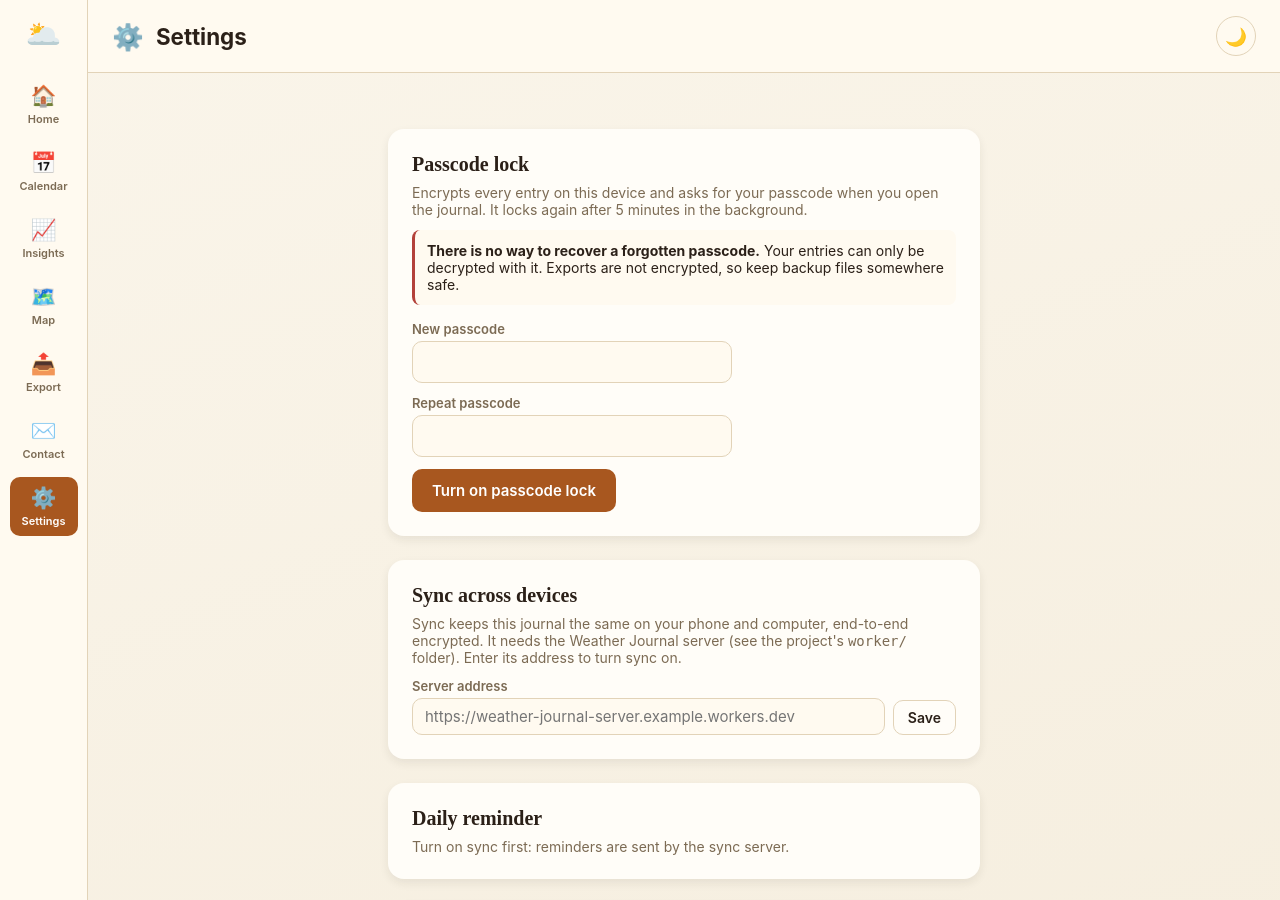
Test: Passcode lock › checks the new passcode before turning the lock on
Type "12" into the password field labelled "New passcode" at (572, 362), box top-left (412, 341), bottom-right (732, 383)
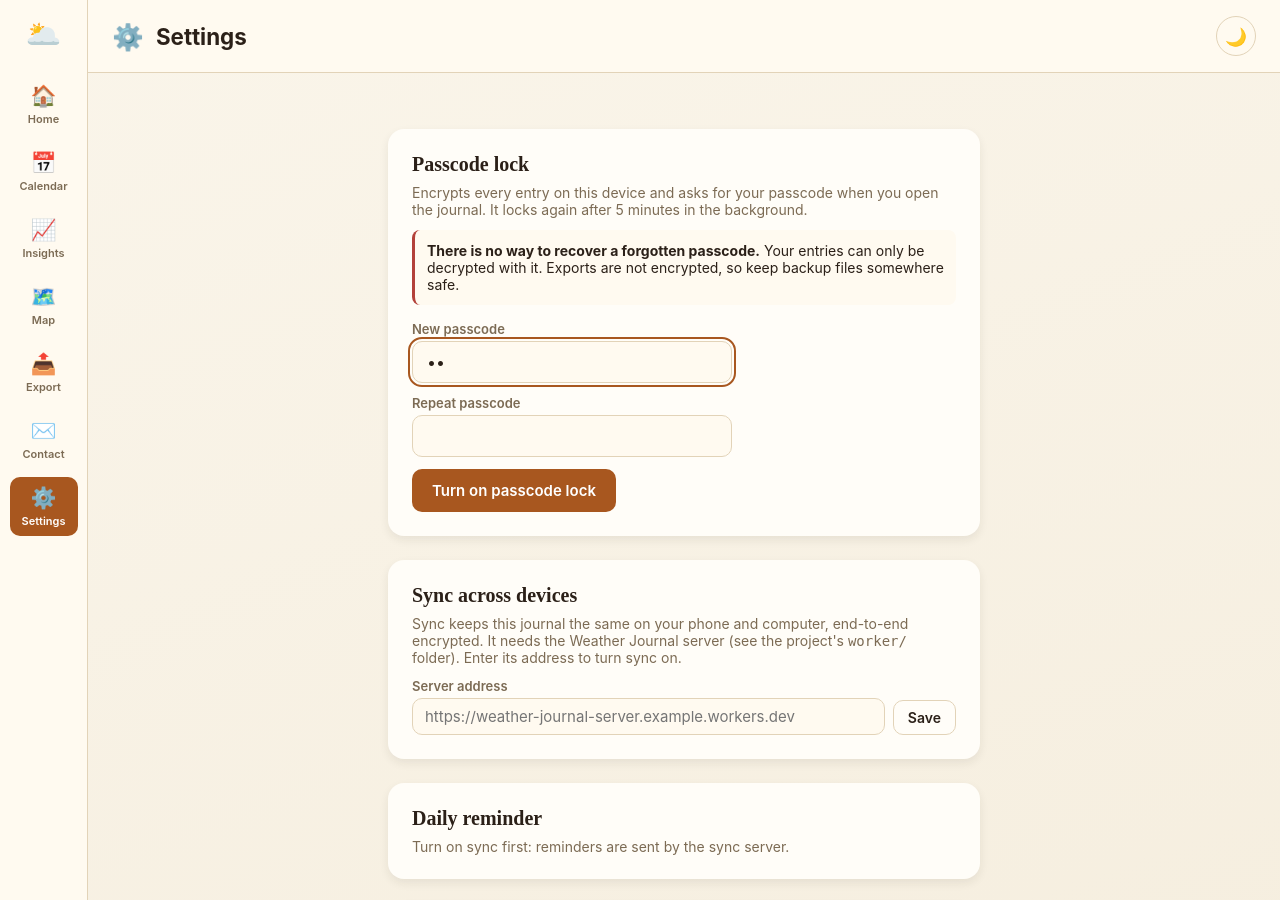
Type "12" into the password field labelled "Repeat passcode" at (572, 436), box top-left (412, 415), bottom-right (732, 457)
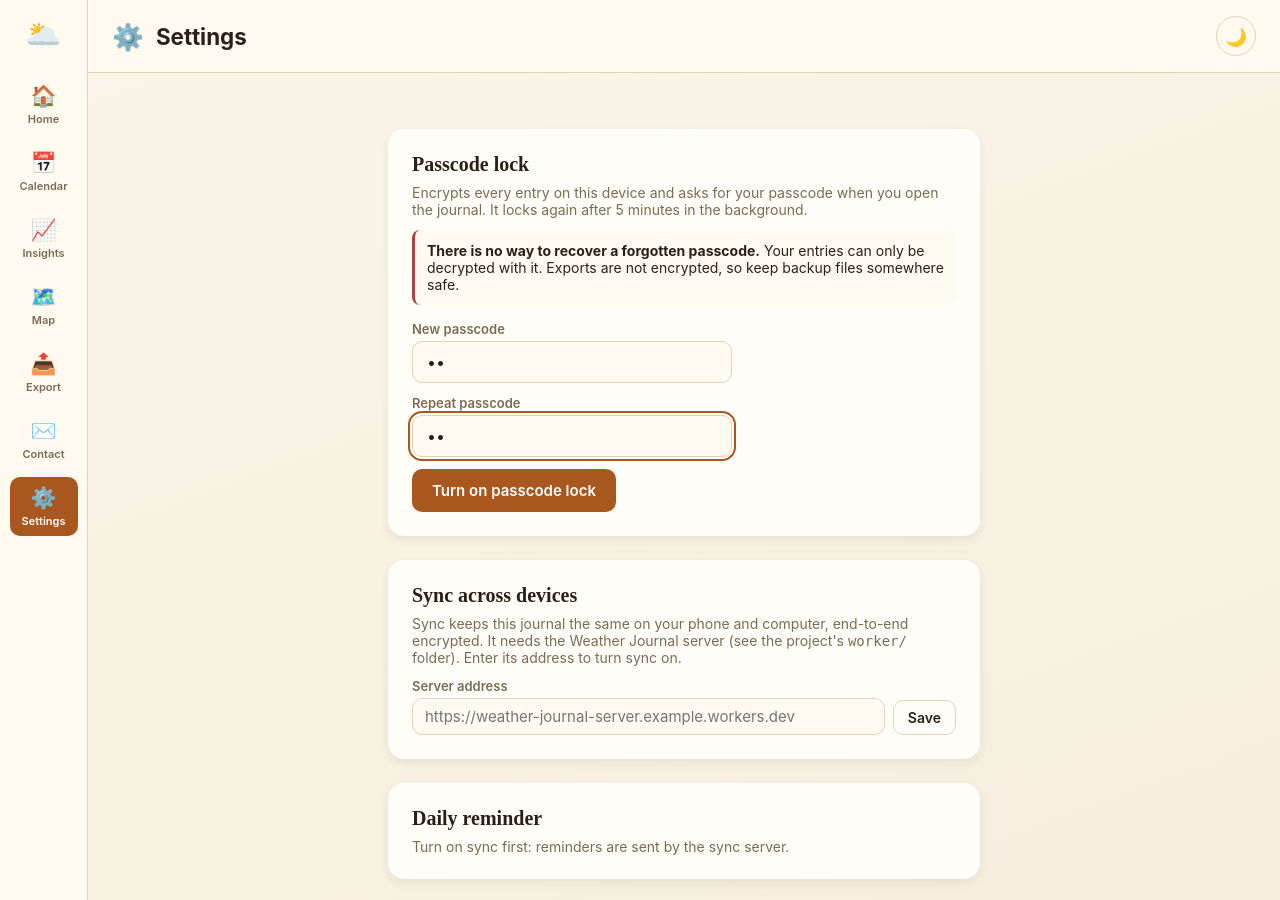
Click the button "Turn on passcode lock" at (514, 490), box top-left (412, 469), bottom-right (616, 512)
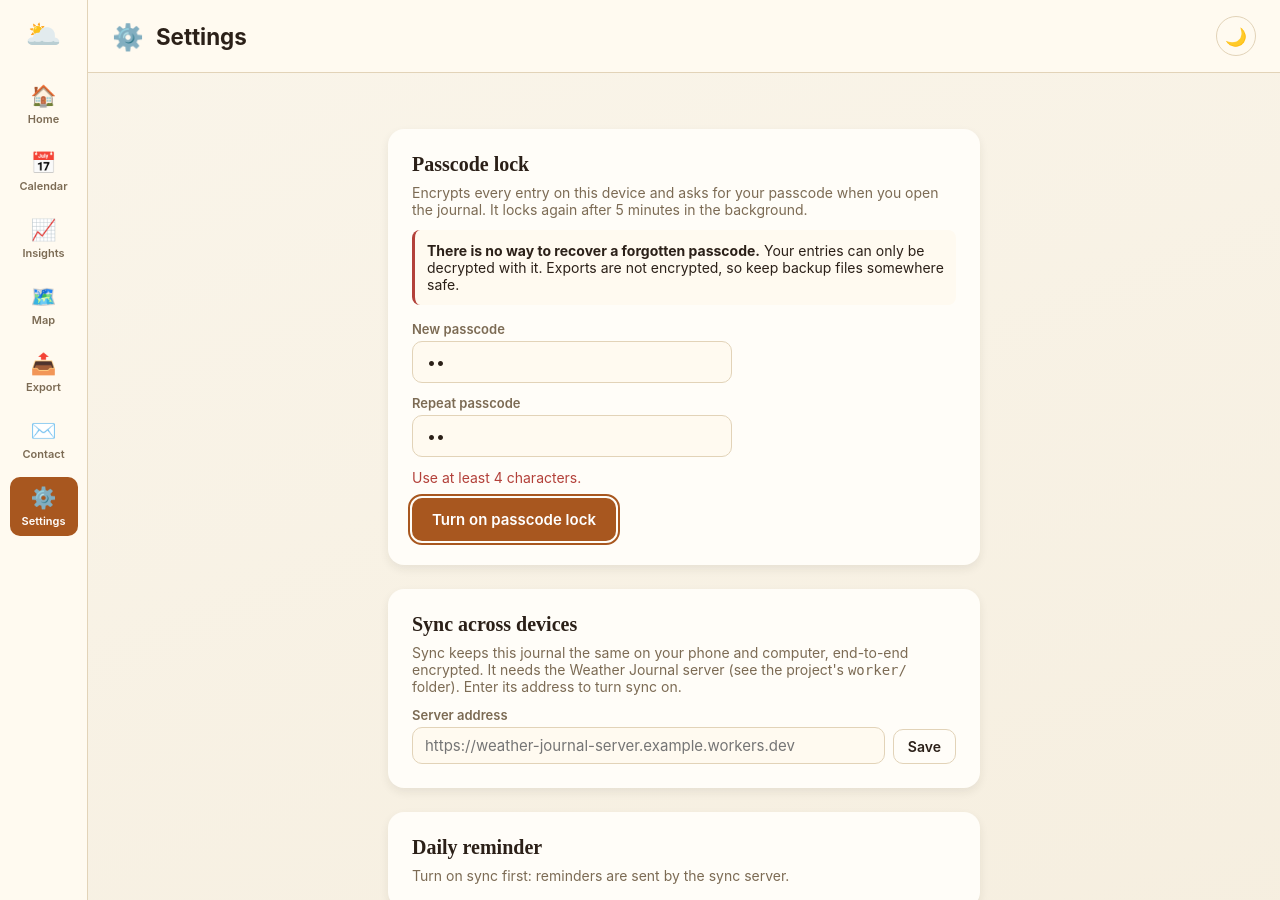
Check: the message shows "at least 4 characters", box top-left (412, 469), bottom-right (581, 486)
Type "123456" into the password field labelled "New passcode" at (572, 362), box top-left (412, 341), bottom-right (732, 383)
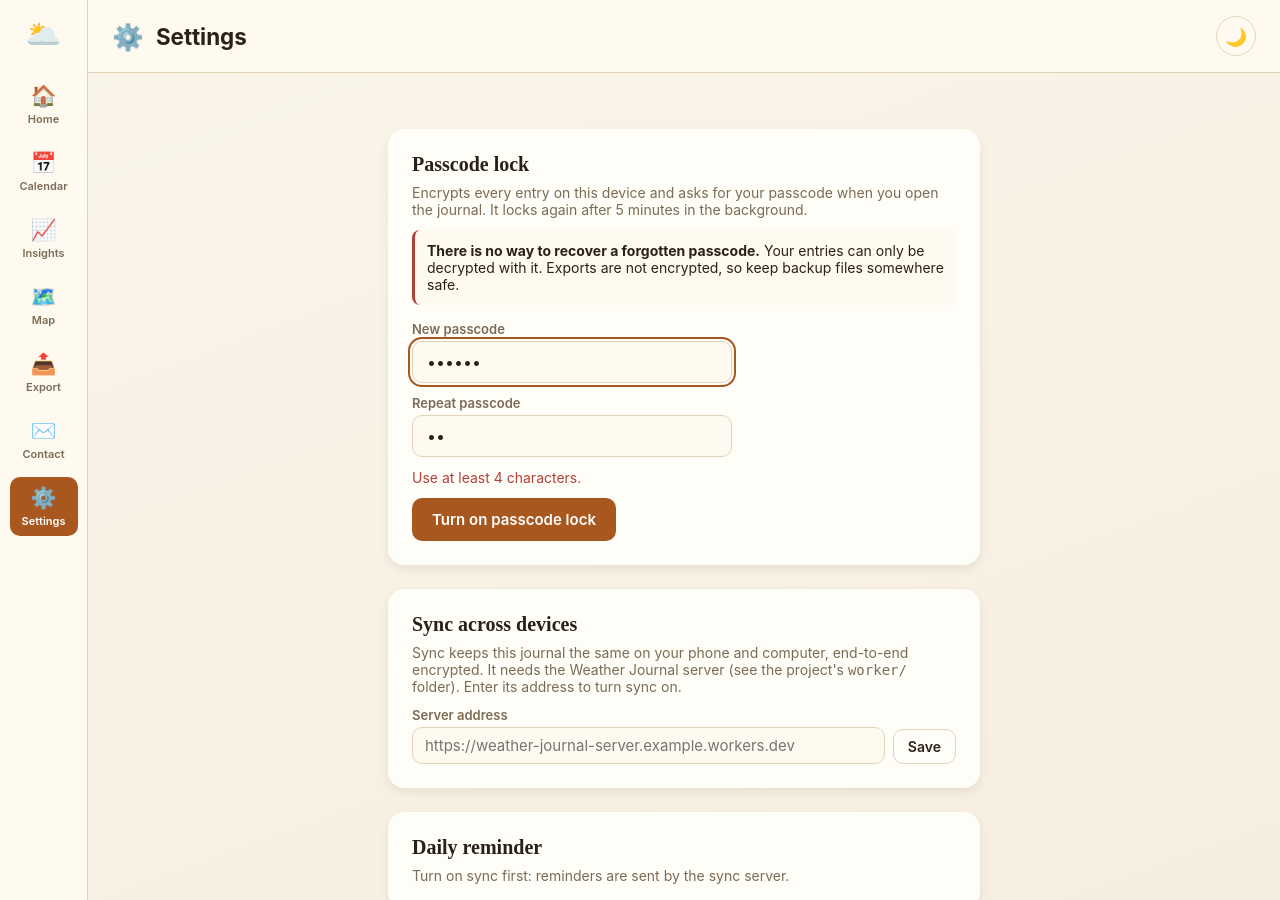
Click the button "Turn on passcode lock" at (514, 520), box top-left (412, 498), bottom-right (616, 541)
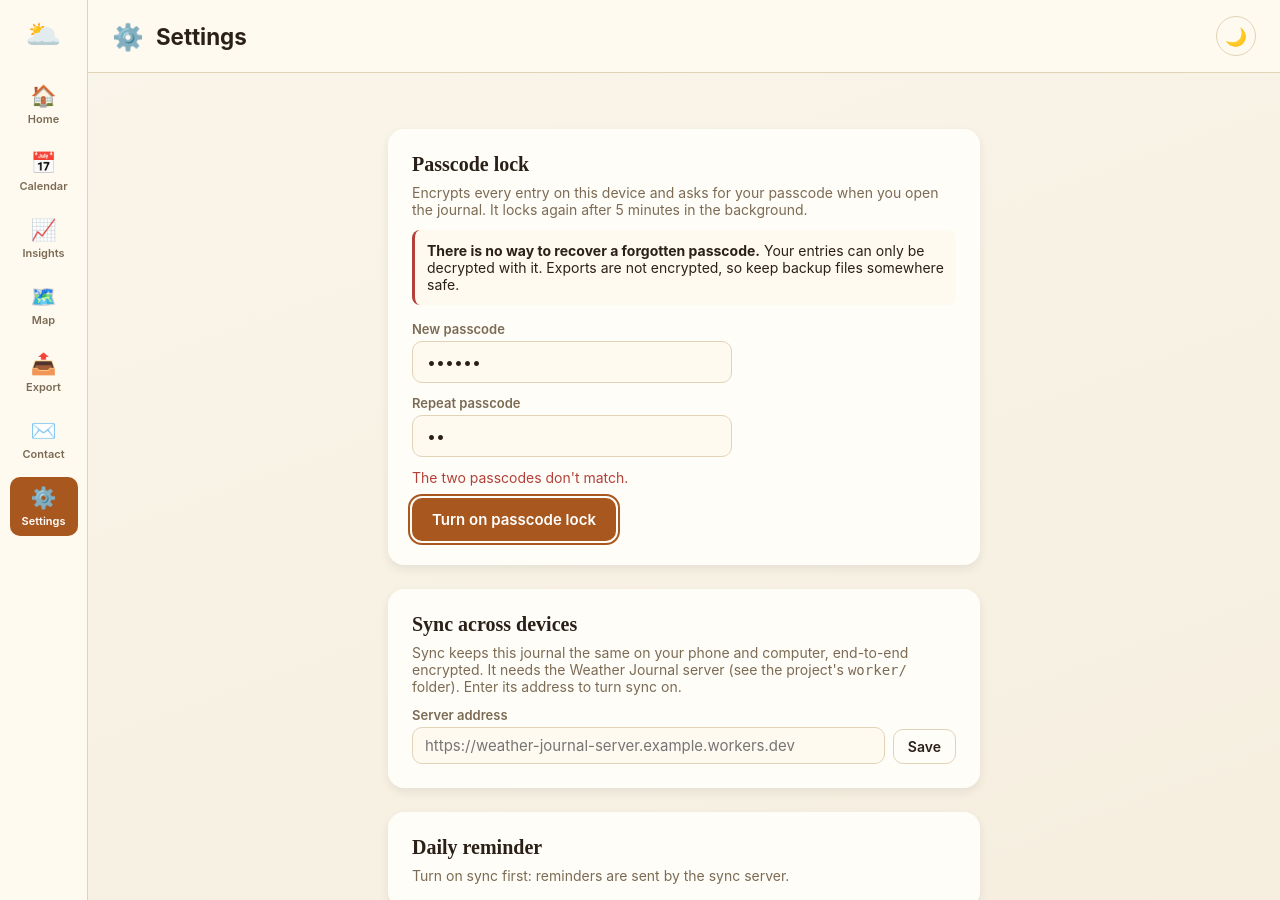
Check: the message shows "don't match", box top-left (412, 469), bottom-right (628, 486)
